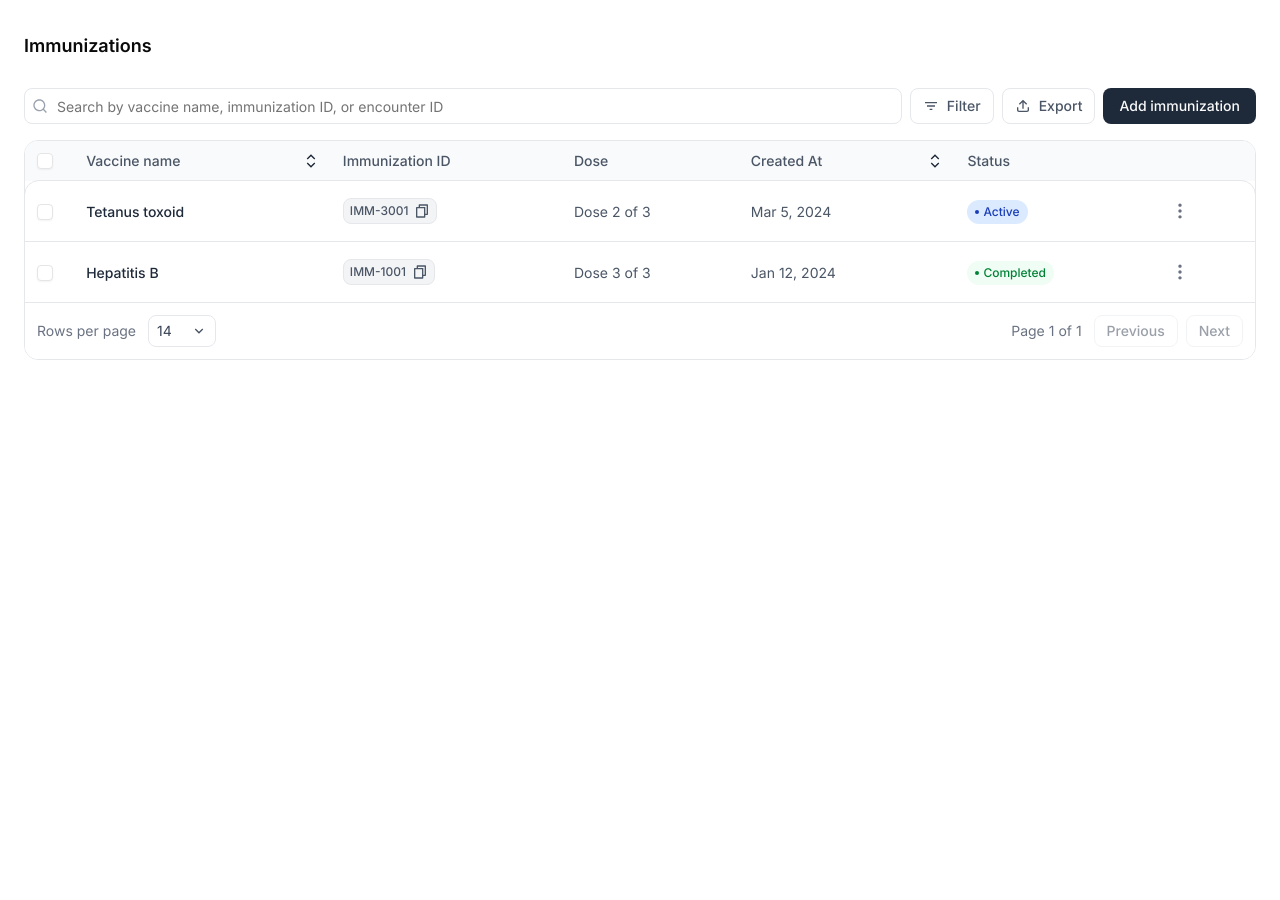
Scenario: Immunizations table › opens the details drawer with that immunization's data from the row actions
Click the button named "Open actions for Hepatitis B": {"x": 1180, "y": 272} [1162, 254, 1198, 290]
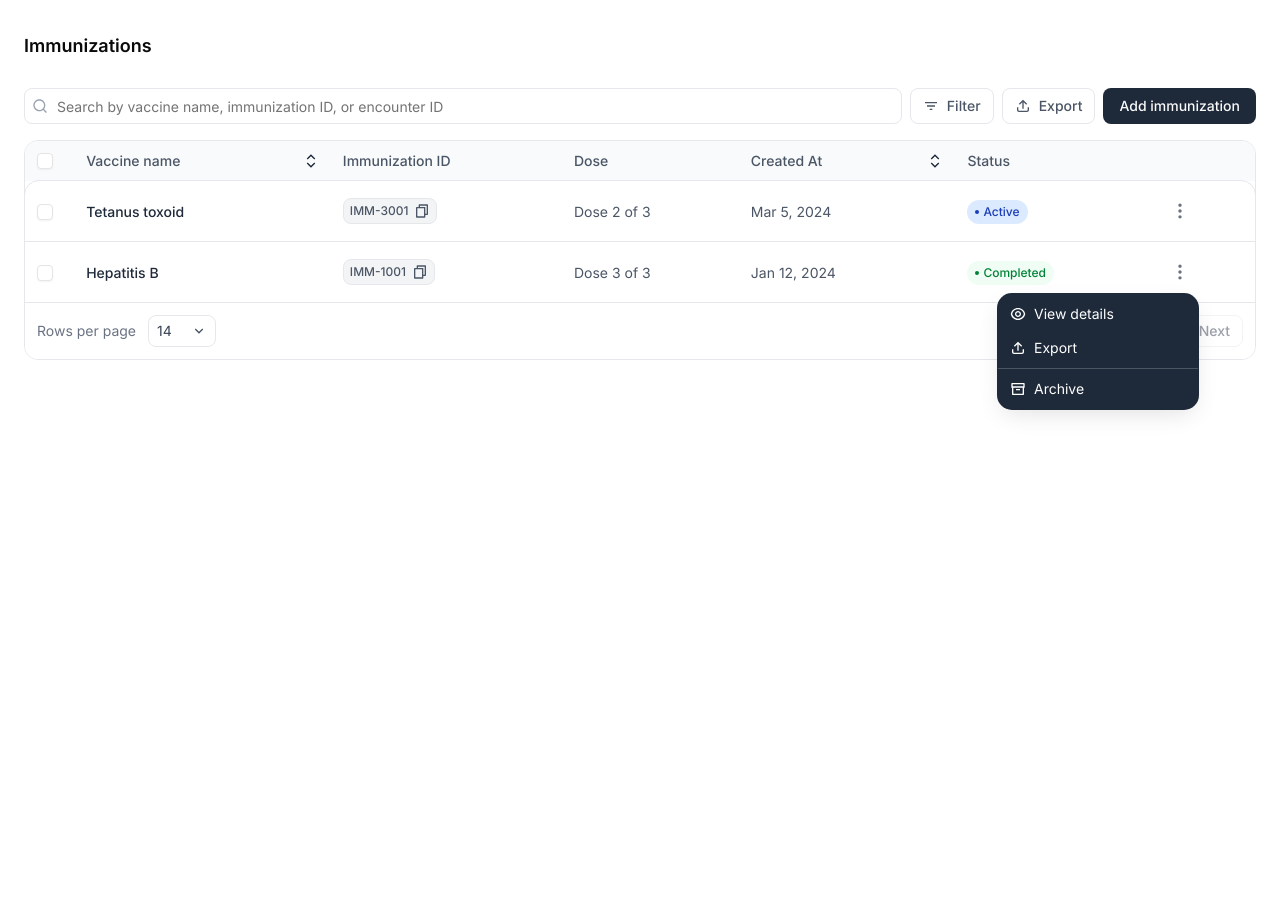
Expected: the menu item "Export" is shown, [1010, 339, 1077, 356]
Click the menu item "View details": {"x": 1062, "y": 314} [1010, 305, 1114, 322]
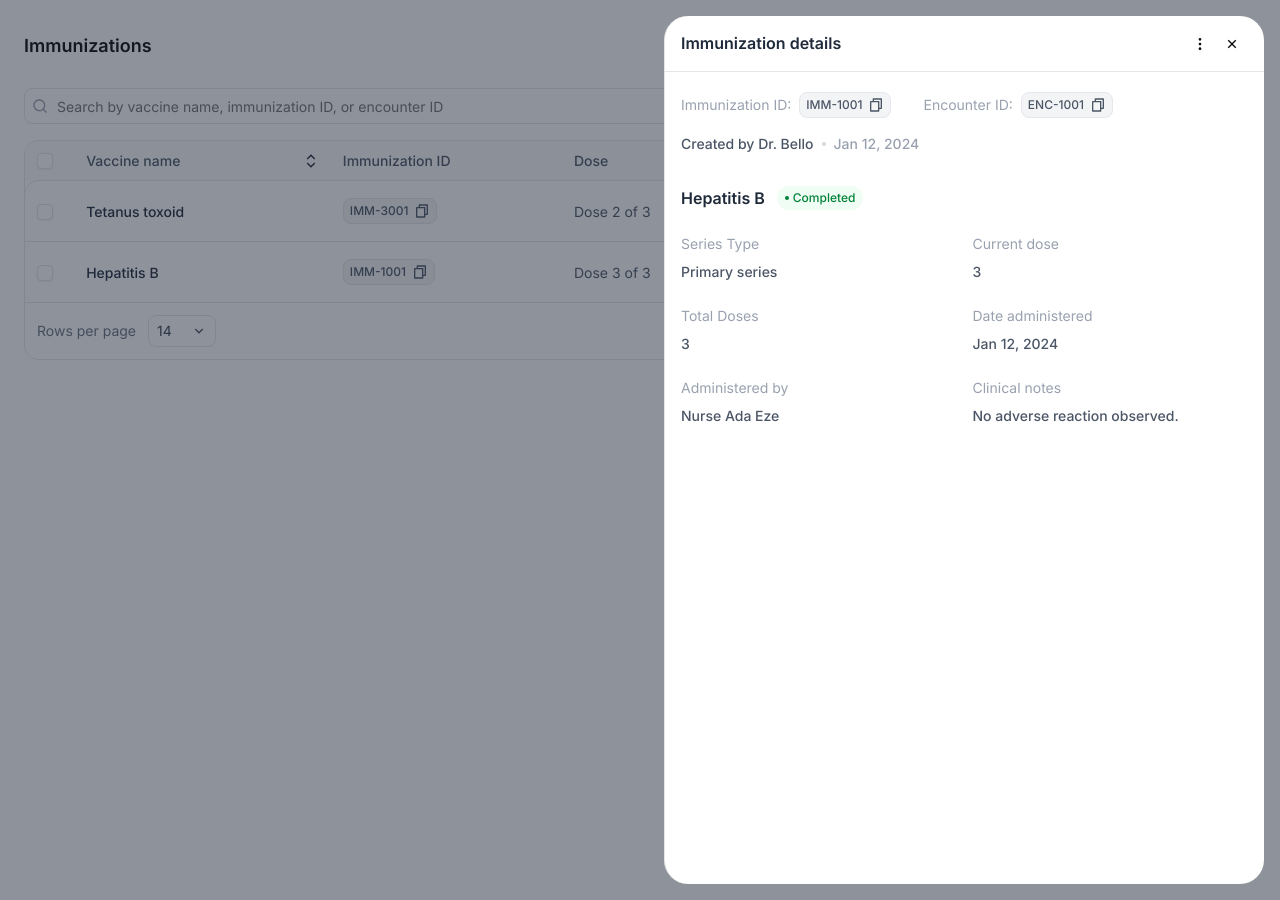
Expected: the heading "Hepatitis B" is shown, [681, 186, 765, 210]
Expected: the text "Primary series" is shown, [681, 263, 777, 280]
Expected: the text "Nurse Ada Eze" is shown, [681, 407, 779, 424]
